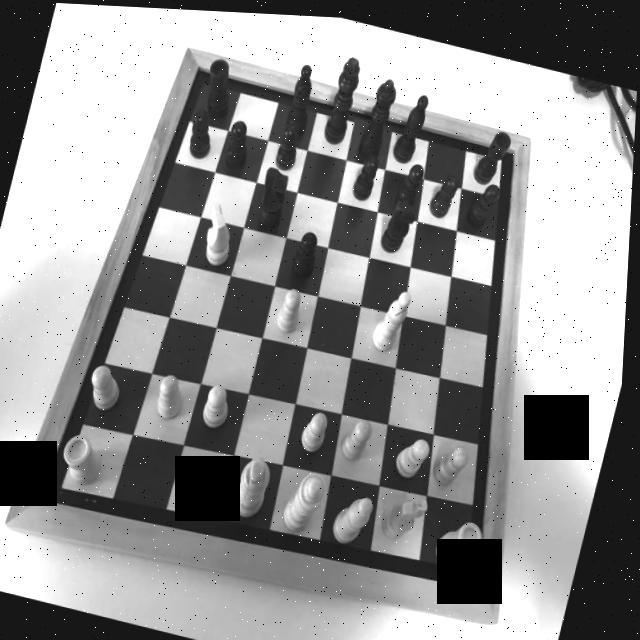chess-table-corners: (33, 479, 66, 512), (472, 564, 498, 594), (505, 132, 526, 156), (192, 52, 210, 76)
